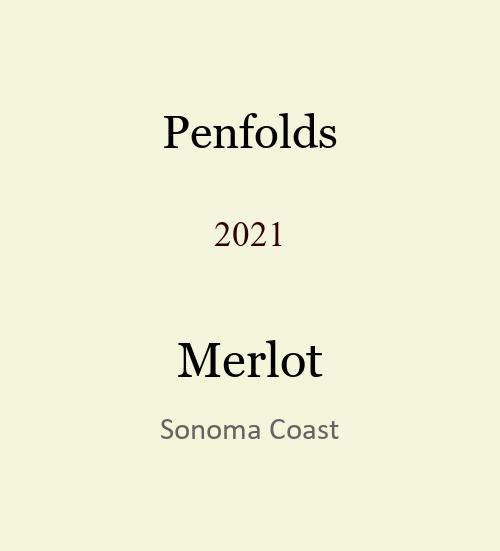brand: (162, 105, 338, 140)
region: (160, 415, 339, 435)
variety: (177, 332, 323, 369)
vintage: (214, 214, 286, 238)
